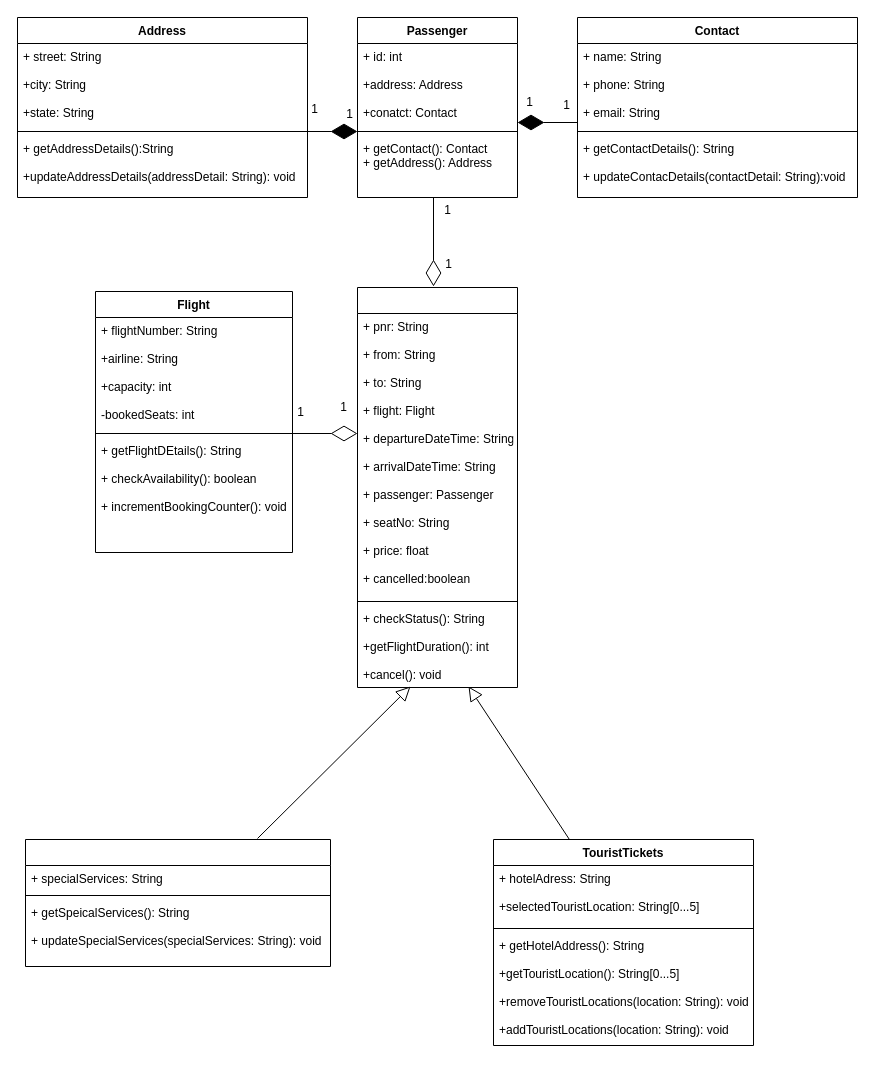
Image size: 875x1066. Some labels were removed from this diagram. Each missing label, with the box of its shape:
RegularTicket: (24, 838, 330, 966)
Tickets: (356, 286, 518, 688)
